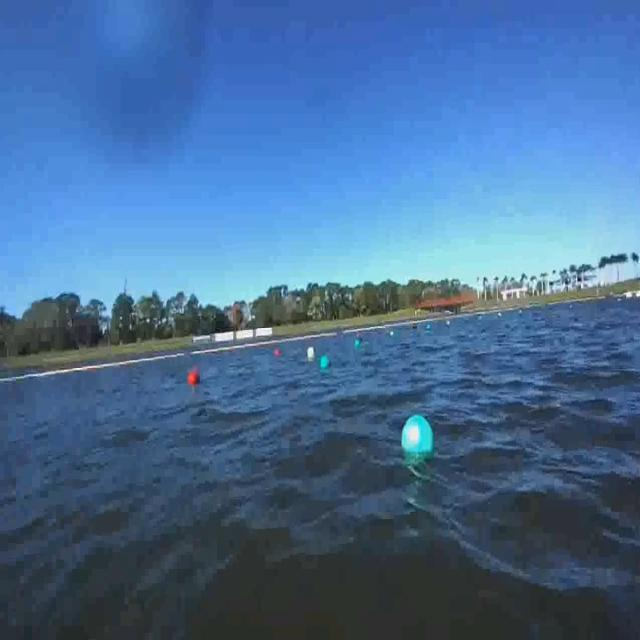green-buoy: (401, 414, 435, 460), (320, 354, 330, 369)
red-buoy: (188, 371, 200, 388), (275, 349, 281, 358)
